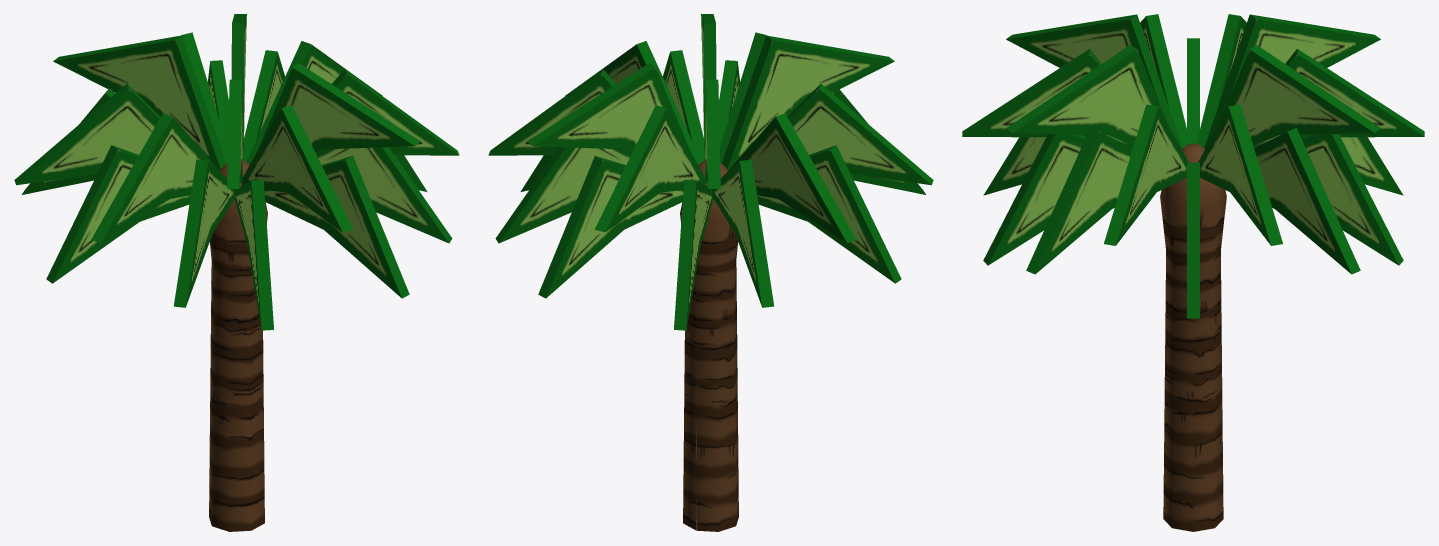
Rendered from Palmtree.fbx.
The picture shows the model from 3 angles, left to right: view 1: azimuth 30°, elevation 25°; view 2: azimuth 150°, elevation 25°; view 3: azimuth 270°, elevation 25°; orthographic projection. The views are drawn at different scales.
Parts seen in each view (by area): view 1: palmtree_low; view 2: palmtree_low; view 3: palmtree_low.
Part boxes in pixels (x1,y1,x2,y2): palmtree_low: [14, 14, 459, 531]; palmtree_low: [488, 14, 933, 531]; palmtree_low: [962, 14, 1424, 531].
Size of the model in its own units: 348 by 415 by 357.
